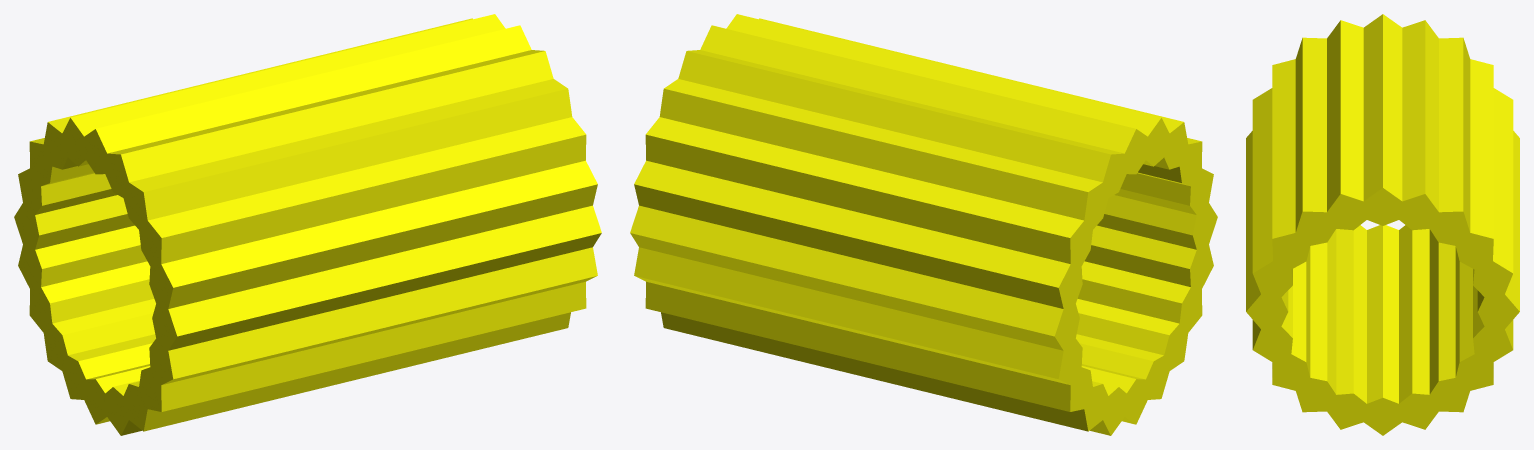
Rendered from FlexRoller.obj.
3 views of the same model, side by side, from view 1: azimuth 30°, elevation 25°; view 2: azimuth 150°, elevation 25°; view 3: azimuth 270°, elevation 25° (orthographic). The views are drawn at different scales.
Parts seen in each view (by area): view 1: Solid2; view 2: Solid2; view 3: Solid2.
Boxes of the visible parts, x1,y1,x2,y2 form: Solid2: (14, 14, 601, 435); Solid2: (630, 14, 1217, 435); Solid2: (1246, 14, 1519, 435).
Bounding box in the file's own units: 60 × 39.96 × 39.96.
